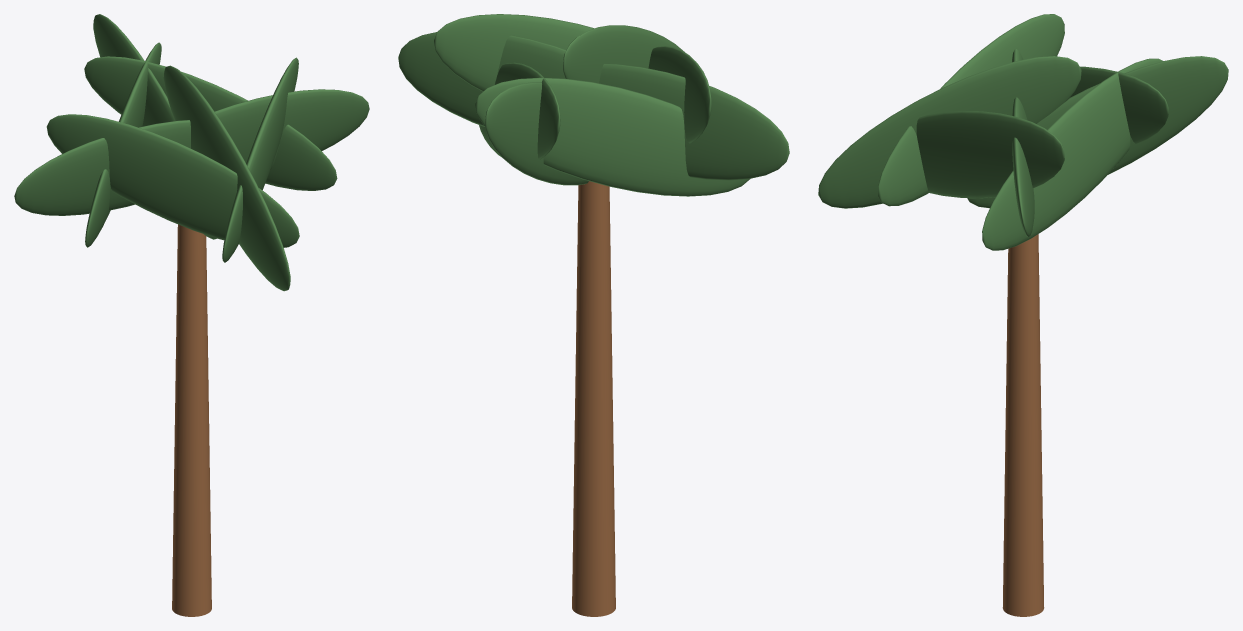
Rendered from wp-palmier.glb.
The picture shows the model from 3 angles, left to right: view 1: azimuth 30°, elevation 25°; view 2: azimuth 150°, elevation 25°; view 3: azimuth 270°, elevation 25°; orthographic projection. The views are drawn at different scales.
Parts seen in each view (by area): view 1: wp-palmier; view 2: wp-palmier; view 3: wp-palmier.
Boxes of the visible parts, x1,y1,x2,y2 form: wp-palmier: (14,14,369,616); wp-palmier: (398,14,789,616); wp-palmier: (818,14,1228,616).
Size of the model in its own units: 2 by 2.85 by 1.92.
